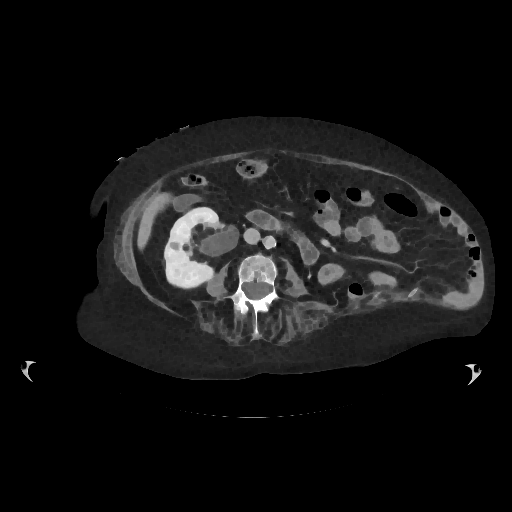Lesion: (169, 240, 183, 256)
